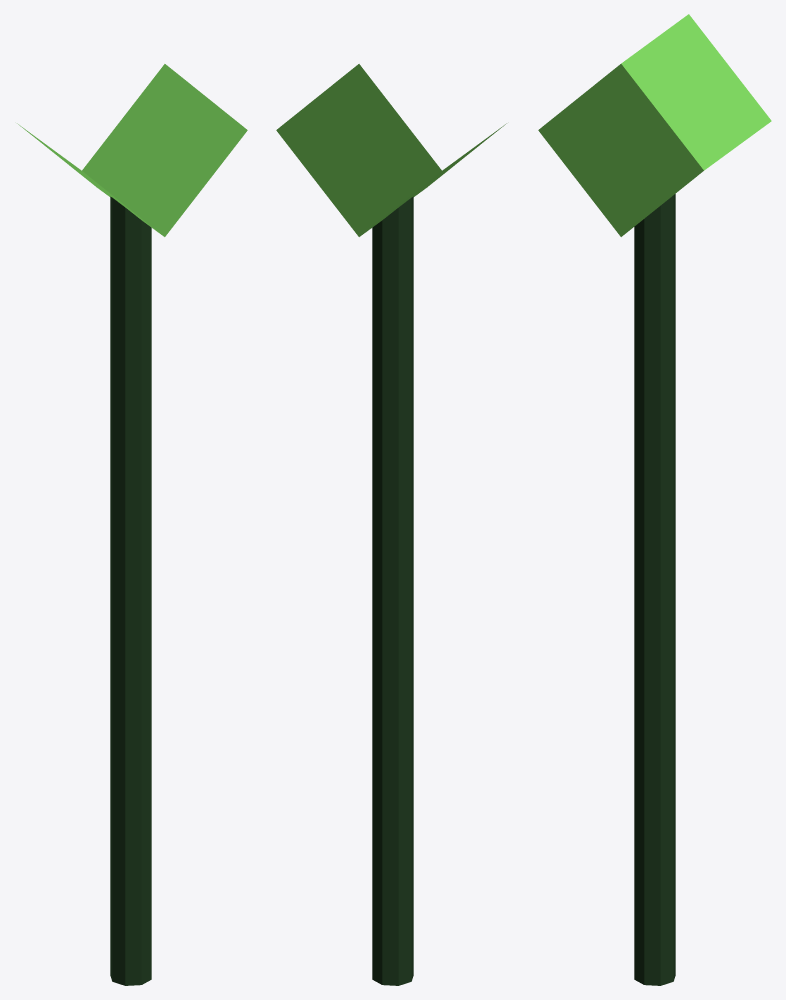
The model's file is rubick.glb.
3 views of the same model, side by side, from view 1: azimuth 30°, elevation 25°; view 2: azimuth 150°, elevation 25°; view 3: azimuth 330°, elevation 25° (orthographic).
Visible parts, largest first — view 1: rubick-shaft, rubick-head-gem; view 2: rubick-shaft, rubick-head-gem; view 3: rubick-shaft, rubick-head-gem.
Boxes of the visible parts, left/top/right/bottom form: rubick-shaft: left=110, top=196, right=151, bottom=985; rubick-head-gem: left=17, top=64, right=247, bottom=236; rubick-shaft: left=372, top=196, right=413, bottom=985; rubick-head-gem: left=276, top=64, right=506, bottom=236; rubick-shaft: left=634, top=194, right=675, bottom=985; rubick-head-gem: left=538, top=14, right=771, bottom=236.
Size of the model in its own units: 0.3111 by 1.68 by 0.22.
